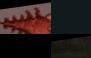bar: (51, 0, 91, 34)
crimera: (0, 0, 51, 34)
